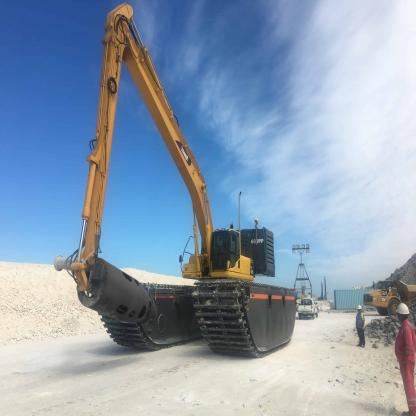excavator: (41, 2, 307, 371)
